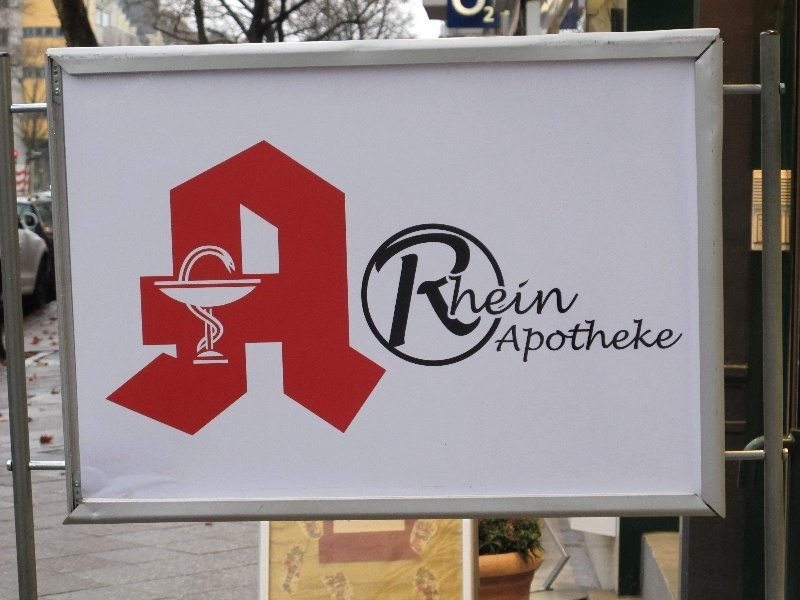text: (129, 139, 144, 444), (145, 139, 160, 444), (161, 139, 176, 444), (177, 139, 192, 444), (193, 139, 208, 444), (209, 139, 224, 444), (225, 139, 240, 444), (241, 139, 256, 444), (257, 139, 272, 444), (273, 139, 288, 444), (289, 139, 304, 444), (305, 139, 320, 444), (321, 139, 336, 444), (337, 139, 352, 444), (353, 139, 368, 444), (369, 139, 384, 444), (385, 139, 395, 444), (385, 226, 400, 357), (401, 226, 416, 357), (417, 226, 432, 357), (433, 226, 448, 357), (449, 226, 464, 357), (465, 226, 480, 357), (481, 226, 496, 357), (497, 226, 512, 357), (513, 226, 528, 357), (529, 226, 544, 357), (545, 226, 560, 357), (561, 226, 576, 357), (373, 226, 384, 357), (124, 139, 128, 444), (577, 226, 584, 357), (513, 315, 528, 368), (529, 315, 544, 368), (545, 315, 560, 368), (561, 315, 576, 368), (577, 315, 592, 368), (593, 315, 608, 368), (609, 315, 624, 368), (625, 315, 640, 368), (641, 315, 656, 368), (657, 315, 672, 368), (673, 315, 688, 368), (449, 2, 464, 27), (465, 2, 480, 27), (481, 2, 496, 27), (505, 315, 512, 368), (497, 2, 498, 27)
